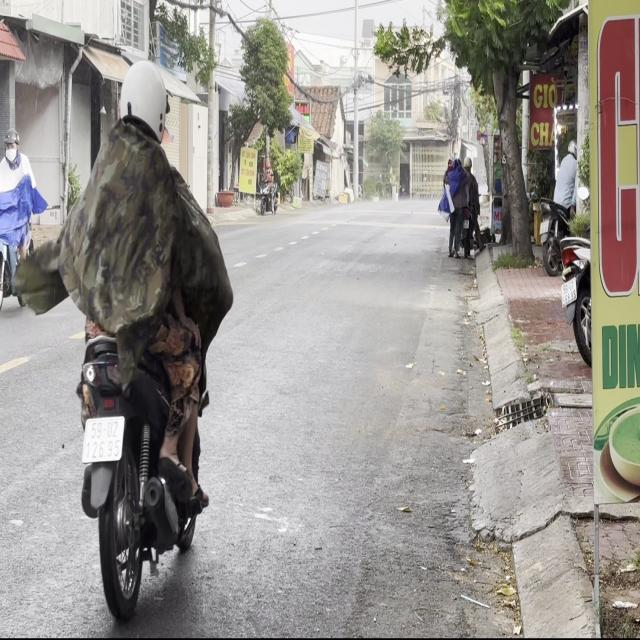helmet: (116, 58, 170, 144), (1, 126, 19, 161)
licenseplate: (54, 55, 232, 625), (0, 123, 43, 314)
nohelmet: (83, 416, 123, 462), (560, 278, 576, 304)
